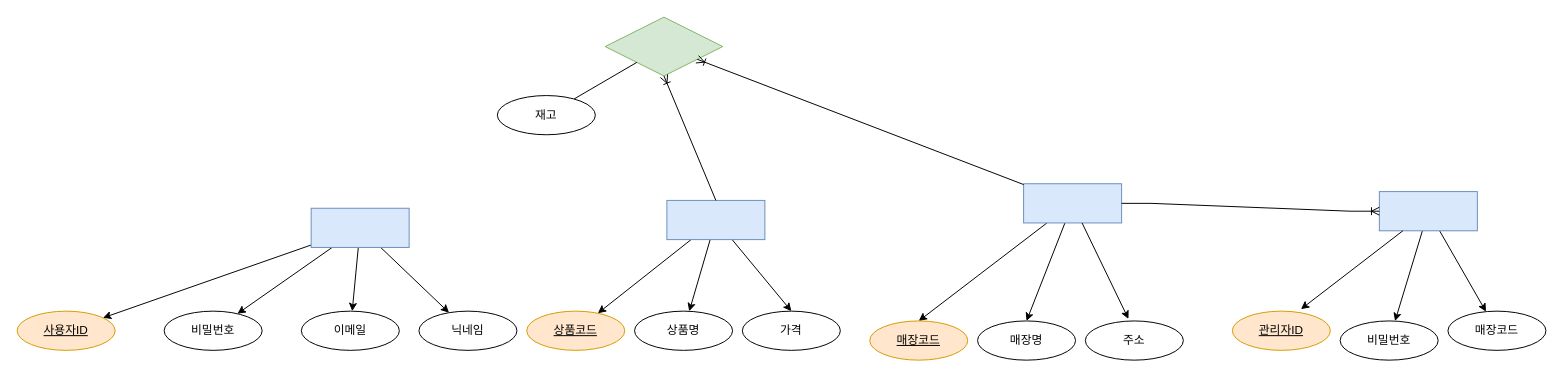
This 1563x377 diagram has some shape labels left out. The shapes that lost their labels are listed below. From the top down, each one's centre as x and y in pixels, then its label:
[663,46]: 재고관리
[715,219]: 상품정보
[1072,203]: 매장정보
[1427,211]: 매장관리자정보
[359,227]: 사용자정보
